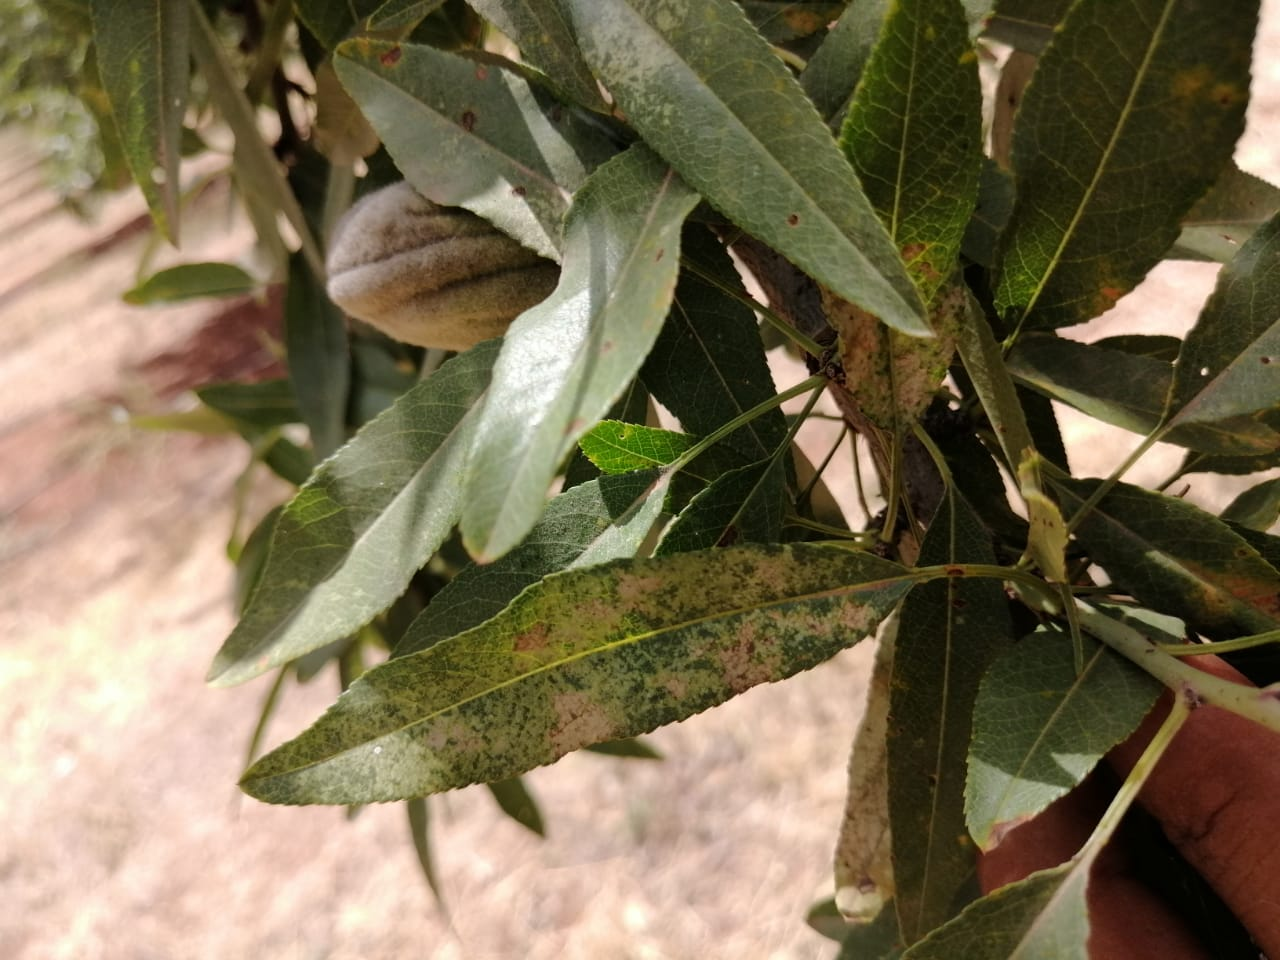faux tigre: (237, 541, 922, 809), (820, 1, 986, 434)
